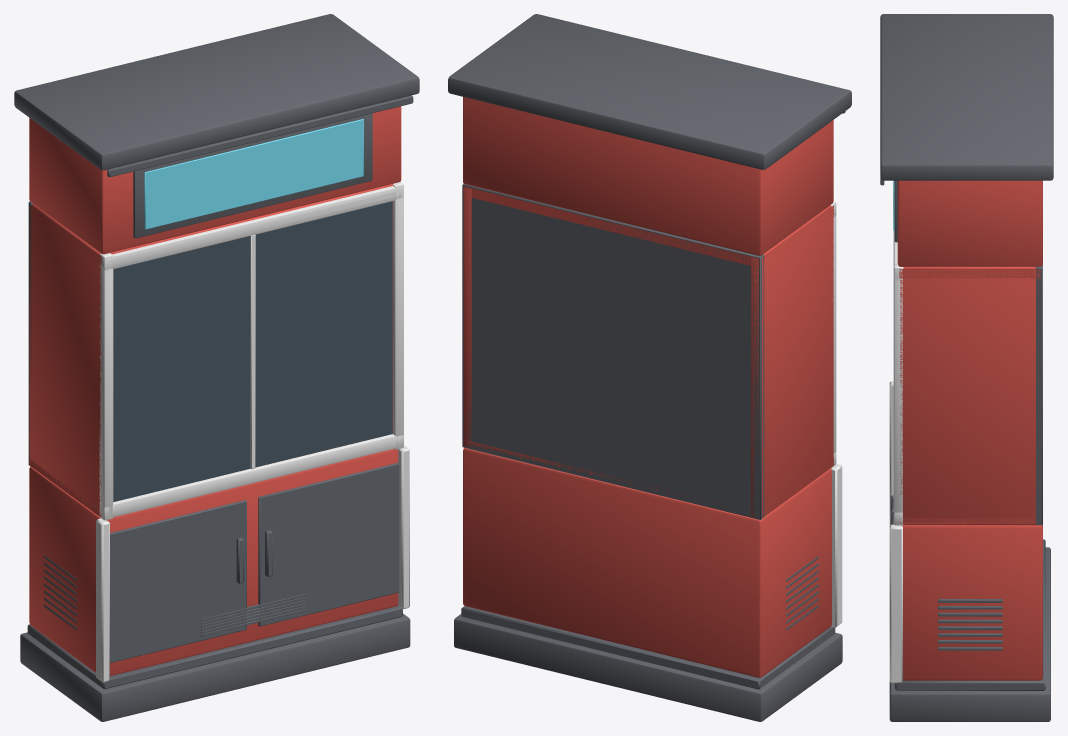
The model's file is WeaponKiosk.fbx.
3 views of the same model, side by side, from view 1: azimuth 30°, elevation 25°; view 2: azimuth 150°, elevation 25°; view 3: azimuth 270°, elevation 25° (orthographic). The views are drawn at different scales.
Parts seen in each view (by area): view 1: WeaponKiosk; view 2: WeaponKiosk; view 3: WeaponKiosk.
Boxes of the visible parts, box(x1,y1,x2,y2) form: WeaponKiosk: box(14, 14, 419, 721); WeaponKiosk: box(448, 14, 851, 721); WeaponKiosk: box(880, 14, 1053, 721).
Size of the model in its own units: 1.34 by 2.3 by 0.645.
